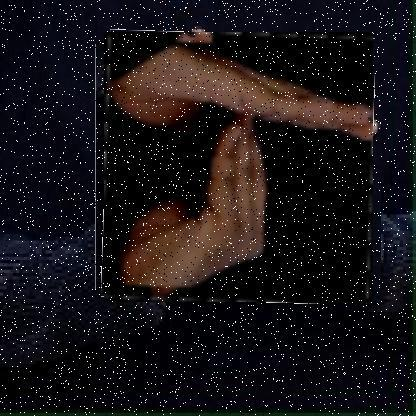Z: (104, 32, 374, 303)
